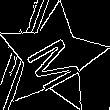M_NE: (20, 26, 86, 91)
